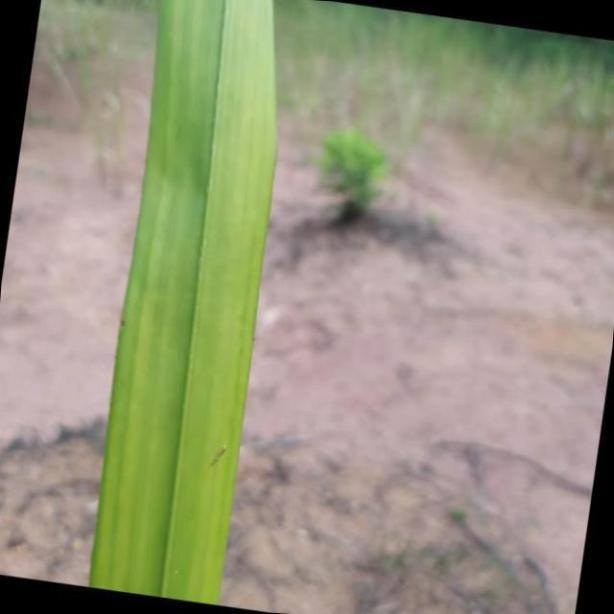nitrogen: (93, 0, 281, 614)
